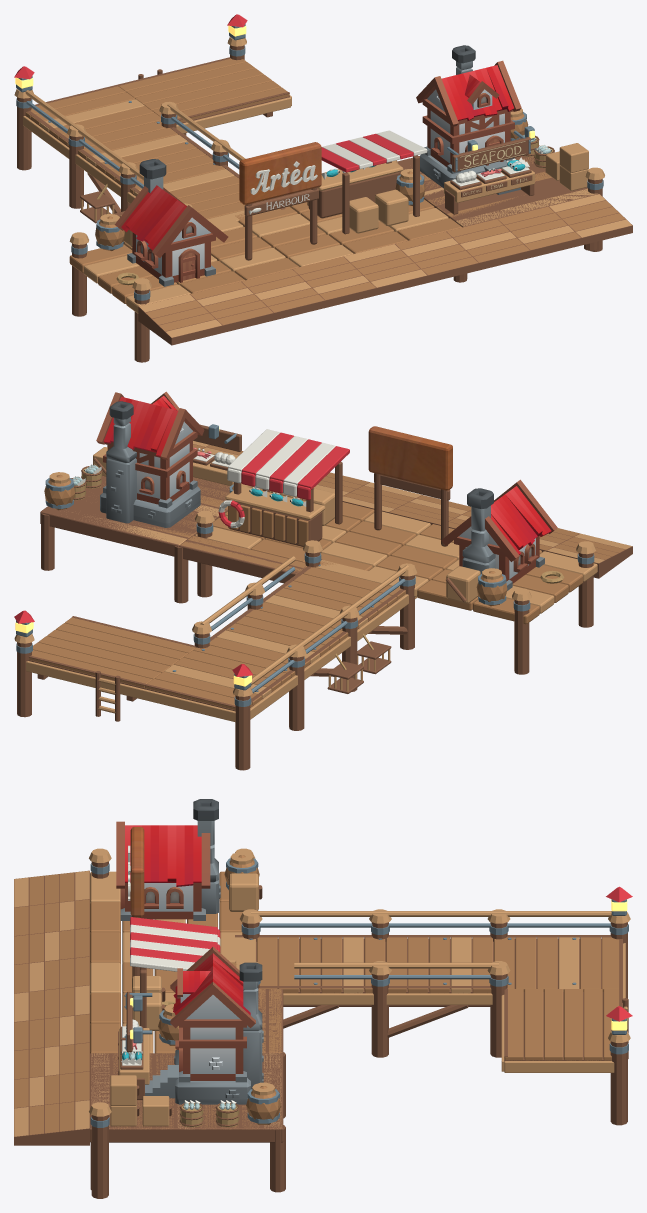
File: artea_harbour.glb
3 views of the same model, one above another, from view 1: azimuth 30°, elevation 25°; view 2: azimuth 150°, elevation 25°; view 3: azimuth 270°, elevation 25° (orthographic). The views are drawn at different scales.
Visible parts, largest first — view 1: SeafoodShopBuilding, VillageHarbourOffice_building_home_A_red, ShoreApron, SeafoodShopPlatform, HarbourSign, FishMarketCounter, SeafoodShopSignboard, BridgeFascia_East, BridgeFascia_BerthShore, BerthPlank_3, BerthPlank_4, BerthPlank_2 (+53 smaller); view 2: SeafoodShopBuilding, VillageHarbourOffice_building_home_A_red, SeafoodShopPlatform, HarbourSign, BridgeFascia_Sea, BridgeFascia_East, ShopApproachFloor, ShoreApron, CounterTop, BerthPlank_1, BerthPlank_2, BerthPlank_3 (+66 smaller); view 3: SeafoodShopBuilding, VillageHarbourOffice_building_home_A_red, SeafoodShopPlatform, ShoreApron, BridgeFascia_West, JettyHandrail_-1_1.27, JettyHandrail_-1_0.92, BerthPlank_1, BerthPlank_2, BerthPlank_4, BerthPlank_3, MooringPile_1 (+55 smaller).
Boxes of the visible parts, x1=… form: SeafoodShopBuilding: x1=416, y1=45, x2=521, y2=194; VillageHarbourOffice_building_home_A_red: x1=114, y1=159, x2=228, y2=286; ShoreApron: x1=138, y1=194, x2=632, y2=345; SeafoodShopPlatform: x1=397, y1=156, x2=598, y2=227; HarbourSign: x1=239, y1=142, x2=321, y2=204; FishMarketCounter: x1=308, y1=172, x2=400, y2=218; SeafoodShopSignboard: x1=452, y1=137, x2=530, y2=172; BridgeFascia_East: x1=23, y1=116, x2=135, y2=203; BridgeFascia_BerthShore: x1=176, y1=97, x2=290, y2=133; BerthPlank_3: x1=135, y1=68, x2=263, y2=104; BerthPlank_4: x1=126, y1=62, x2=254, y2=97; BerthPlank_2: x1=143, y1=74, x2=272, y2=110; SeafoodShopBuilding: x1=96, y1=391, x2=204, y2=527; VillageHarbourOffice_building_home_A_red: x1=441, y1=479, x2=557, y2=590; SeafoodShopPlatform: x1=40, y1=475, x2=258, y2=556; HarbourSign: x1=368, y1=426, x2=452, y2=490; BridgeFascia_Sea: x1=26, y1=661, x2=235, y2=722; BridgeFascia_East: x1=250, y1=594, x2=417, y2=719; ShopApproachFloor: x1=179, y1=535, x2=306, y2=583; ShoreApron: x1=193, y1=444, x2=632, y2=578; CounterTop: x1=225, y1=485, x2=325, y2=519; BerthPlank_1: x1=56, y1=623, x2=187, y2=659; BerthPlank_2: x1=47, y1=629, x2=178, y2=666; BerthPlank_3: x1=38, y1=636, x2=170, y2=672; SeafoodShopBuilding: x1=145, y1=947, x2=263, y2=1104; VillageHarbourOffice_building_home_A_red: x1=116, y1=799, x2=220, y2=920; SeafoodShopPlatform: x1=90, y1=1053, x2=283, y2=1142; ShoreApron: x1=14, y1=870, x2=89, y2=1145; BridgeFascia_West: x1=283, y1=993, x2=492, y2=1004; JettyHandrail_-1_1.27: x1=251, y1=911, x2=611, y2=916; JettyHandrail_-1_0.92: x1=259, y1=923, x2=611, y2=927; BerthPlank_1: x1=524, y1=989, x2=543, y2=1060; BerthPlank_2: x1=544, y1=989, x2=563, y2=1060; BerthPlank_4: x1=584, y1=989, x2=602, y2=1060; BerthPlank_3: x1=564, y1=989, x2=582, y2=1060; MooringPile_1: x1=91, y1=1115, x2=108, y2=1198.
Bounding box in the file's own units: 17.31 × 5.89 × 17.23.
21 materials, 3 textured.
